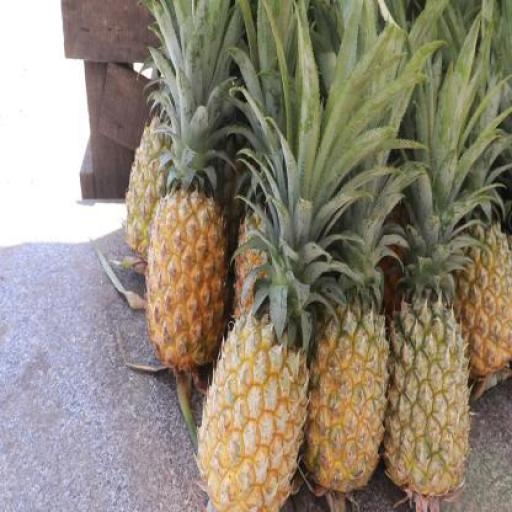------------------------------: (386, 302, 472, 500)
Pineapple - v8 v1: (200, 320, 308, 512), (306, 308, 388, 497), (148, 196, 224, 382), (458, 222, 512, 376)
